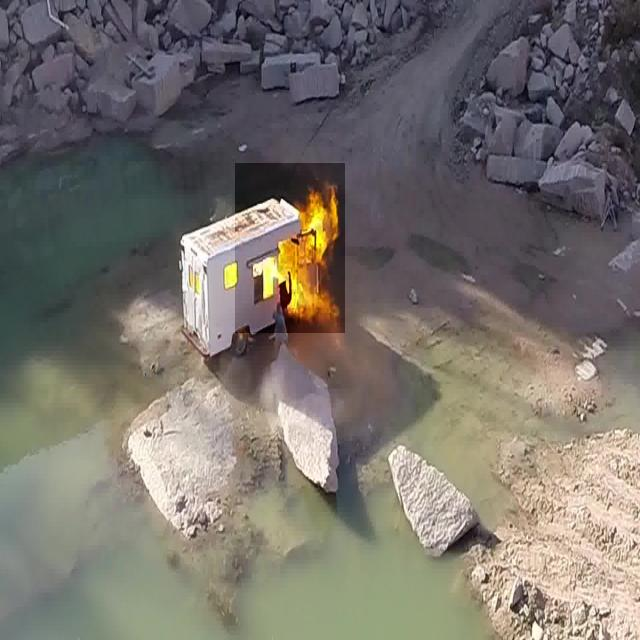Fire: (236, 163, 346, 333)
